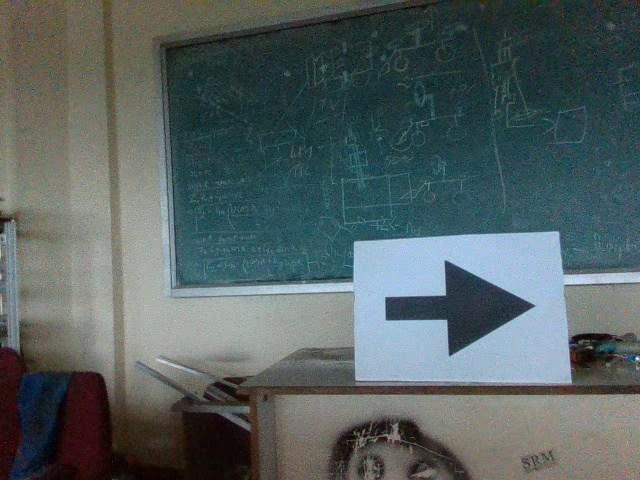Right: (379, 257, 539, 355)
